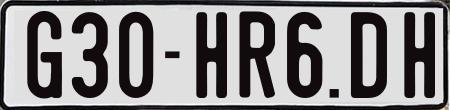0: (117, 10, 157, 101)
3: (69, 9, 108, 101)
6: (285, 10, 320, 96)
D: (351, 10, 391, 99)
G: (26, 8, 66, 100)
H: (194, 11, 225, 98), (402, 9, 430, 99)
R: (236, 8, 278, 97)
